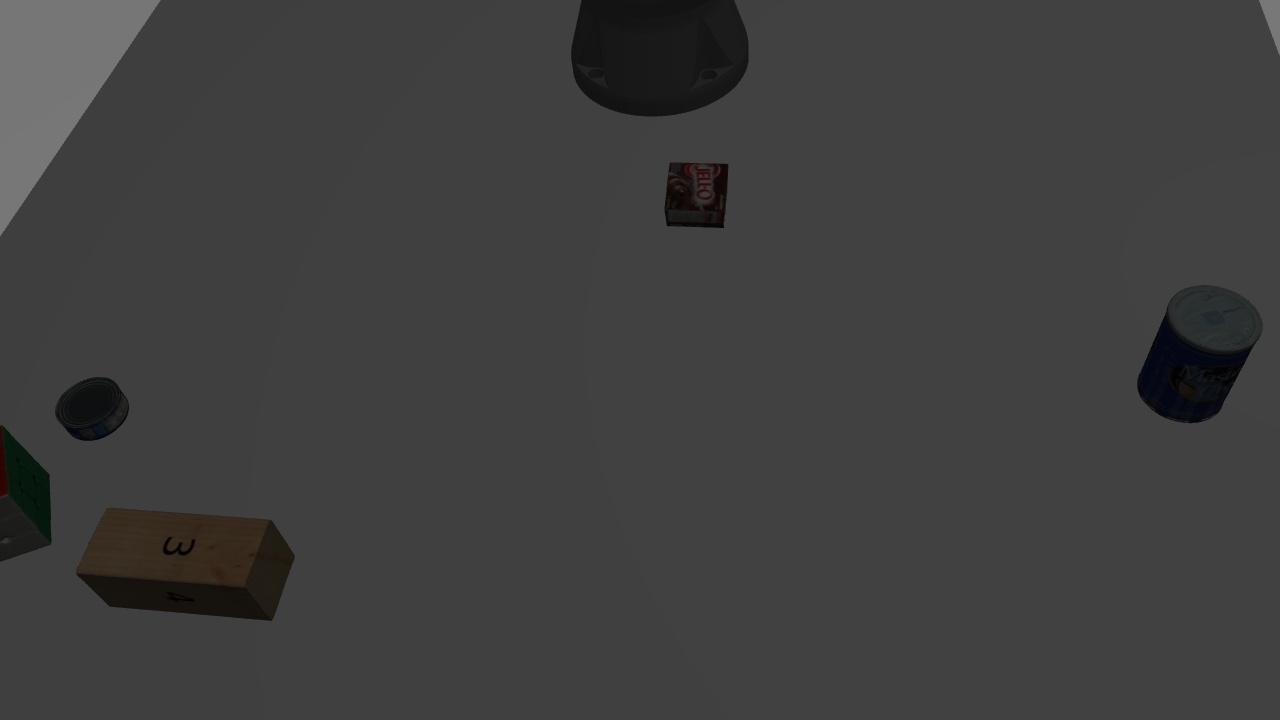master_chef_can: (1132, 274, 1254, 429)
pudding_box: (658, 151, 734, 235)
rubiks_cube: (3, 385, 54, 557)
tuna_fish_can: (115, 376, 137, 435)
wood_block: (72, 485, 295, 621)
